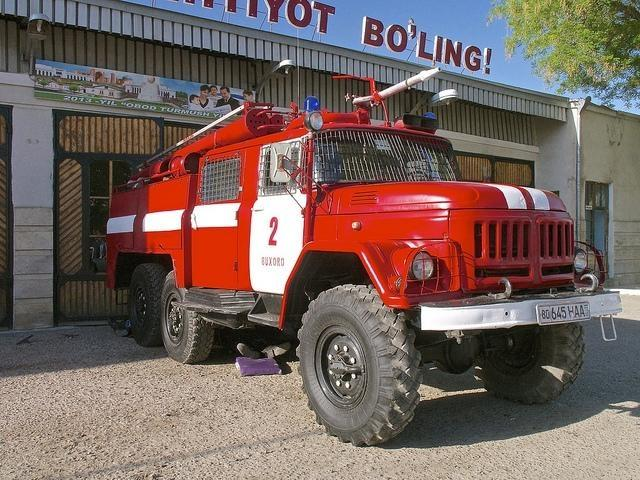truck: (103, 66, 629, 448)
